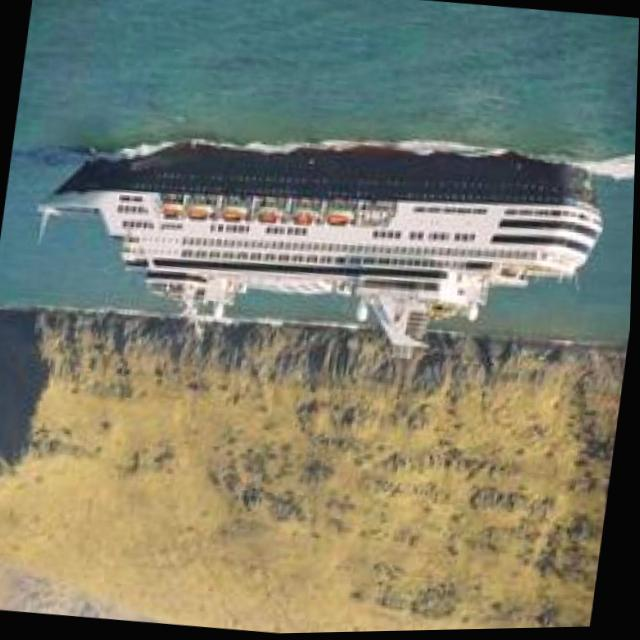ship2: (34, 136, 606, 348)
